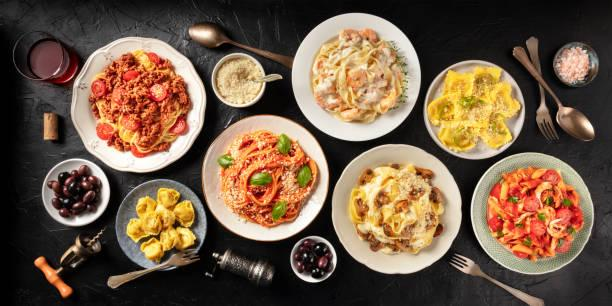Braised Crucian Carp: (71, 36, 203, 174), (291, 11, 422, 145), (330, 144, 462, 276), (201, 114, 328, 243), (469, 152, 595, 276), (423, 59, 525, 161), (114, 178, 208, 270)
